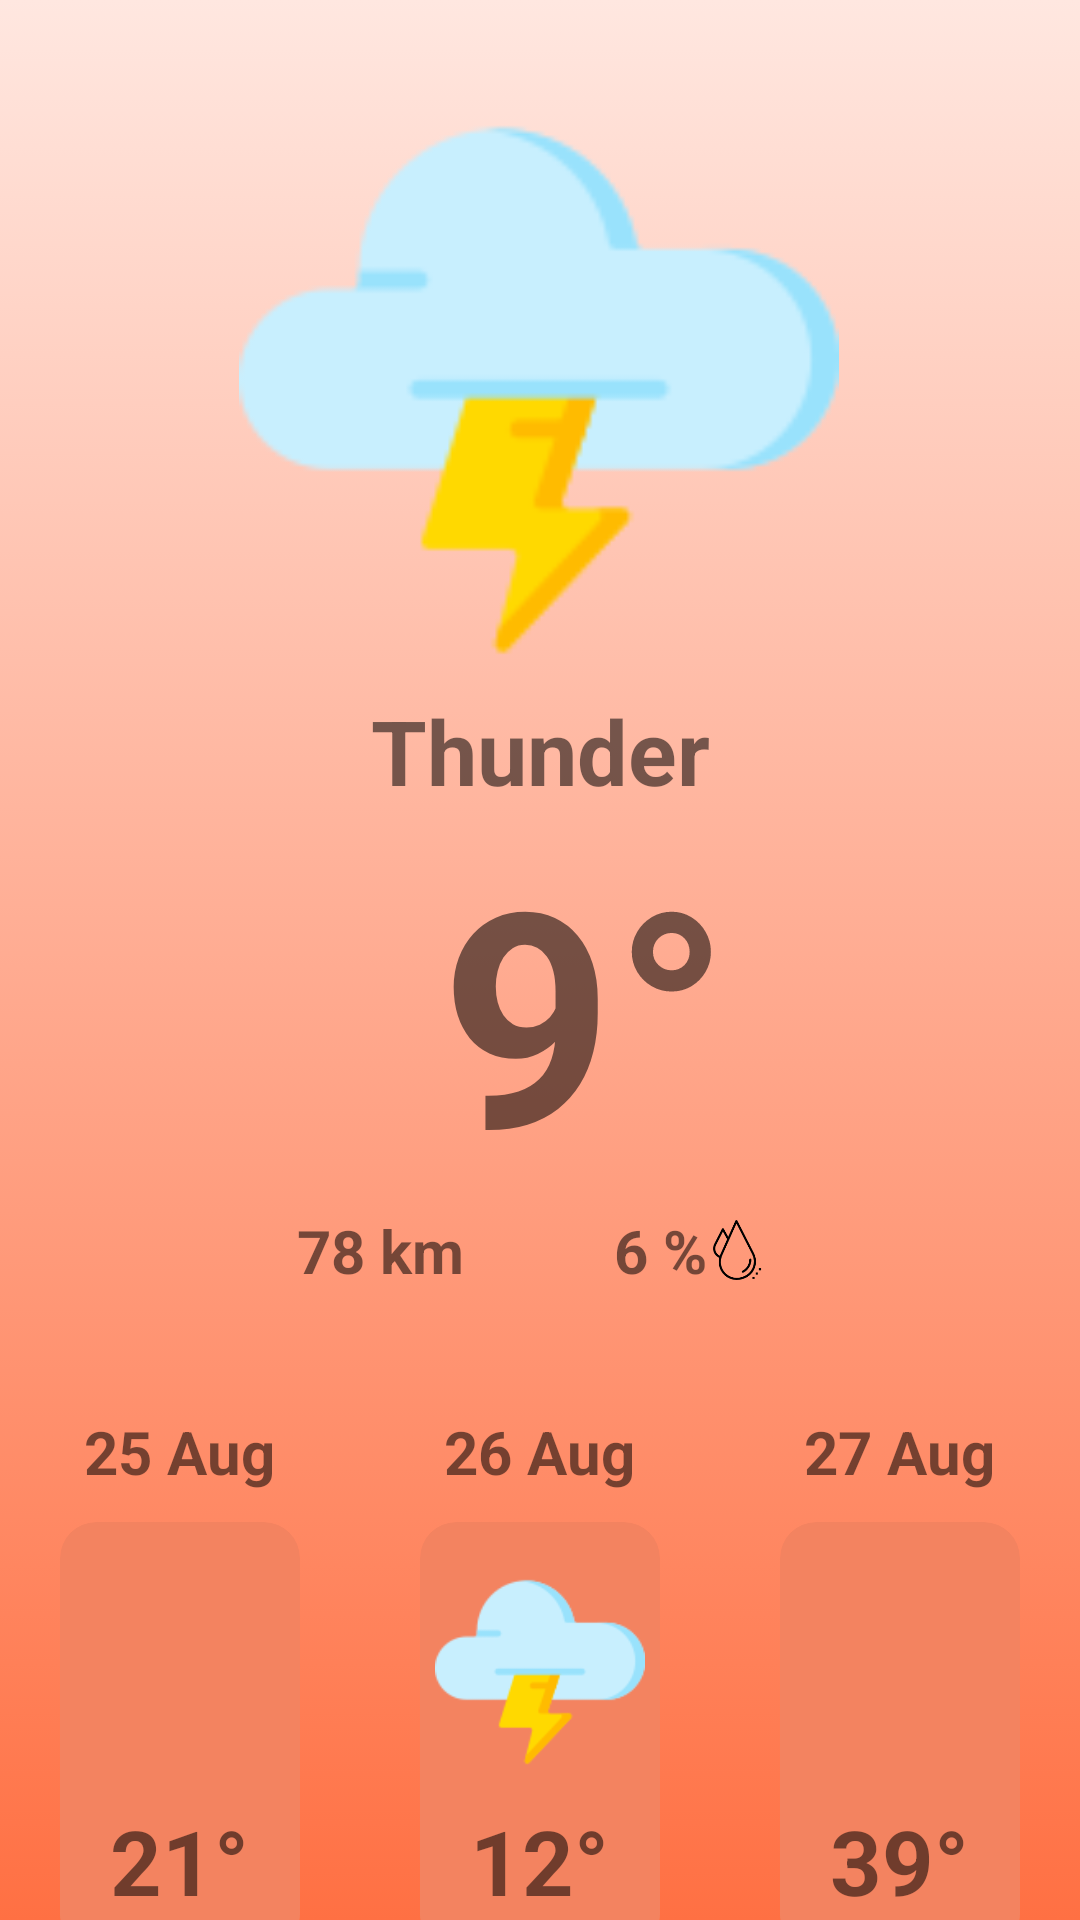

Named icons in this screenshot (1080 x 1920) and their bounding boxes, (x1, y1, x2, y2):
humidity: (713, 1220, 761, 1280)
